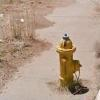a fire hydrant: (57, 35, 82, 87)
